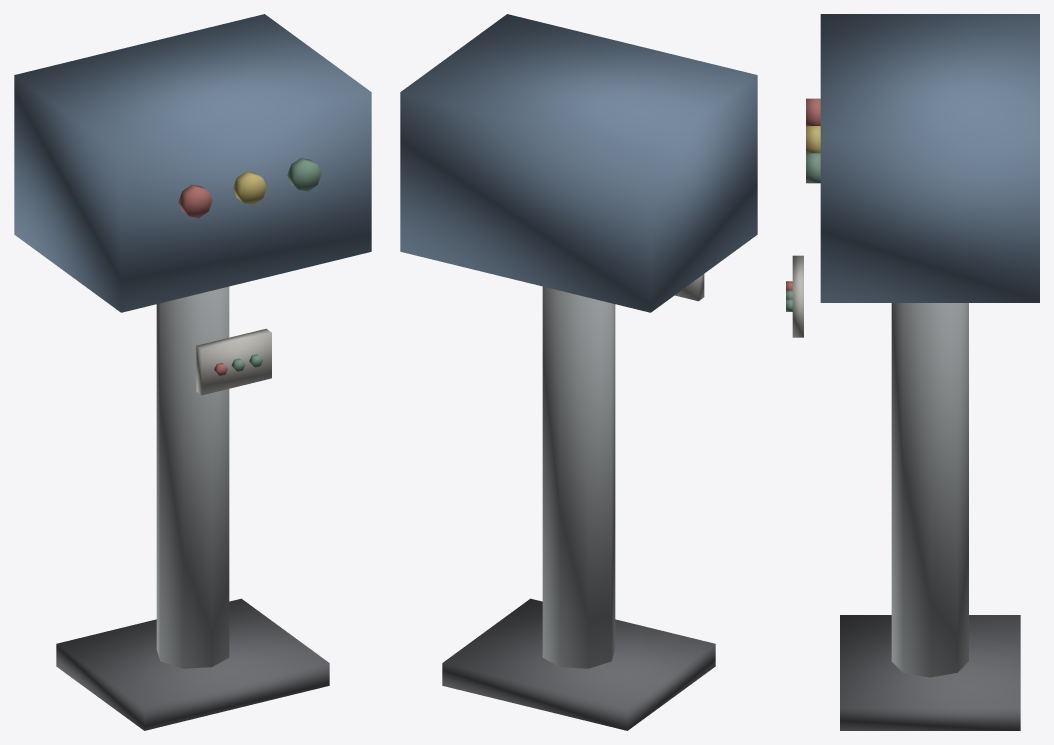
Rendered from pedestal_machine_control.glb.
3 renders of one model, left to right at view 1: azimuth 30°, elevation 25°; view 2: azimuth 150°, elevation 25°; view 3: azimuth 270°, elevation 25°, orthographic. The views are drawn at different scales.
Visible parts, largest first — view 1: world; view 2: world; view 3: world.
Boxes of the visible parts, <box> form: world: <box>14,14,371,730</box>; world: <box>400,14,757,730</box>; world: <box>786,14,1039,730</box>.
Bounding box in the file's own units: 0.46 × 1.04 × 0.3935.
